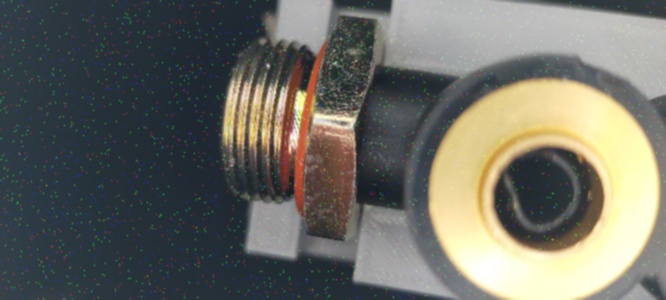bump: (574, 51, 637, 98)
off-centered: (501, 151, 592, 234)
white mark: (372, 147, 388, 165)
